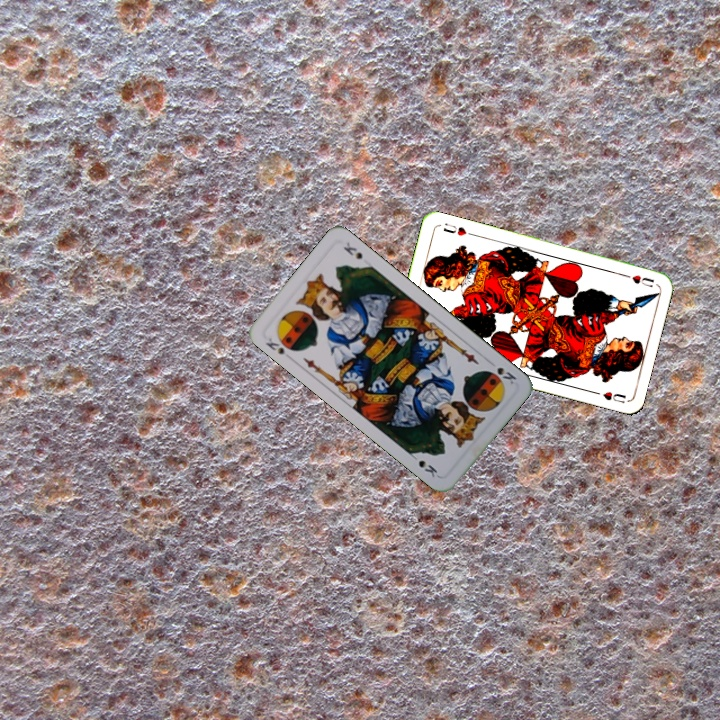HU: (618, 270, 657, 290)
SK: (261, 333, 295, 363), (493, 363, 519, 387)
